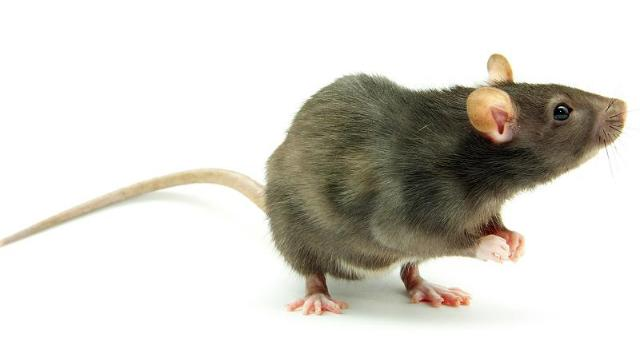rat: (4, 49, 632, 319)
